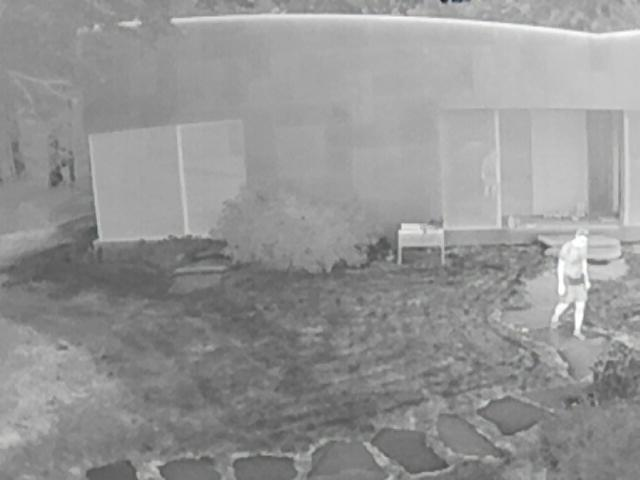person: (549, 227, 591, 341)
